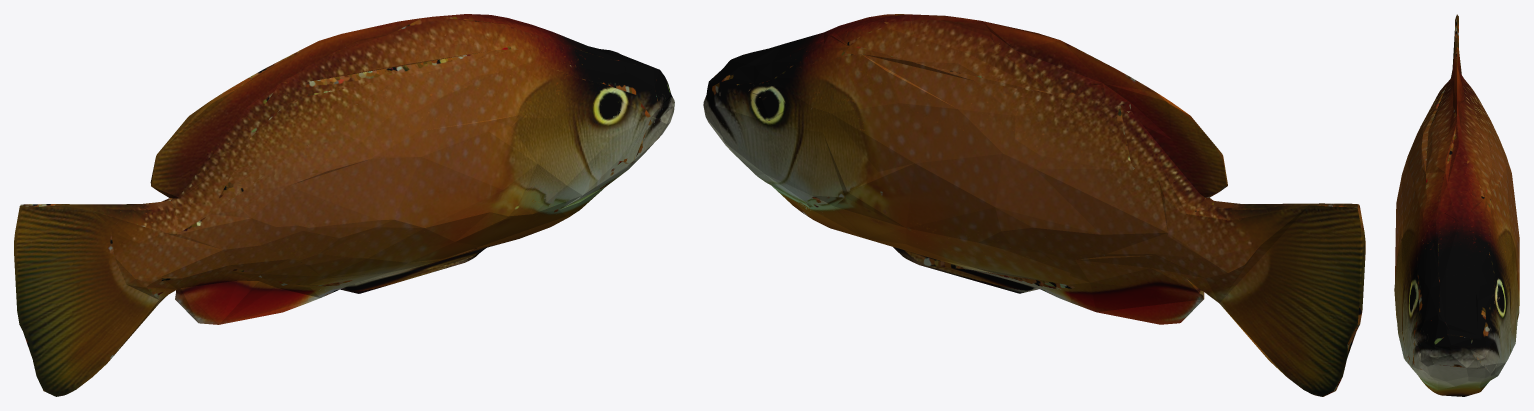
File: fish_0069_smpl23_resized.glb
3 views of the same model, side by side, from view 1: azimuth 30°, elevation 25°; view 2: azimuth 150°, elevation 25°; view 3: azimuth 270°, elevation 25° (orthographic). The views are drawn at different scales.
Parts seen in each view (by area): view 1: world; view 2: world; view 3: world.
Part boxes in pixels (box(x1,y1,x2,y2)): world: box(14, 14, 674, 396); world: box(703, 14, 1365, 396); world: box(1394, 14, 1519, 396).
Bounding box in the file's own units: 1.99 × 0.8558 × 0.3467.
1 material, 1 textured.
